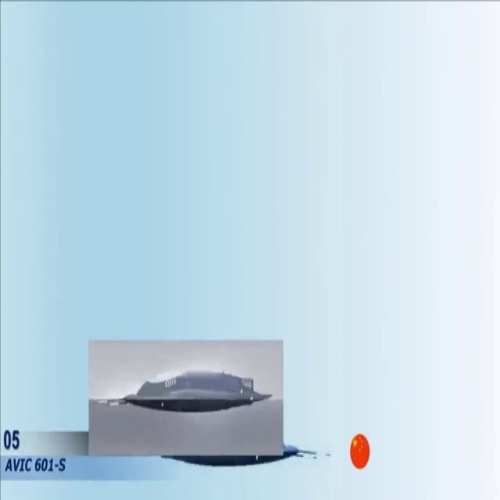uav1042: (89, 365, 274, 420)
